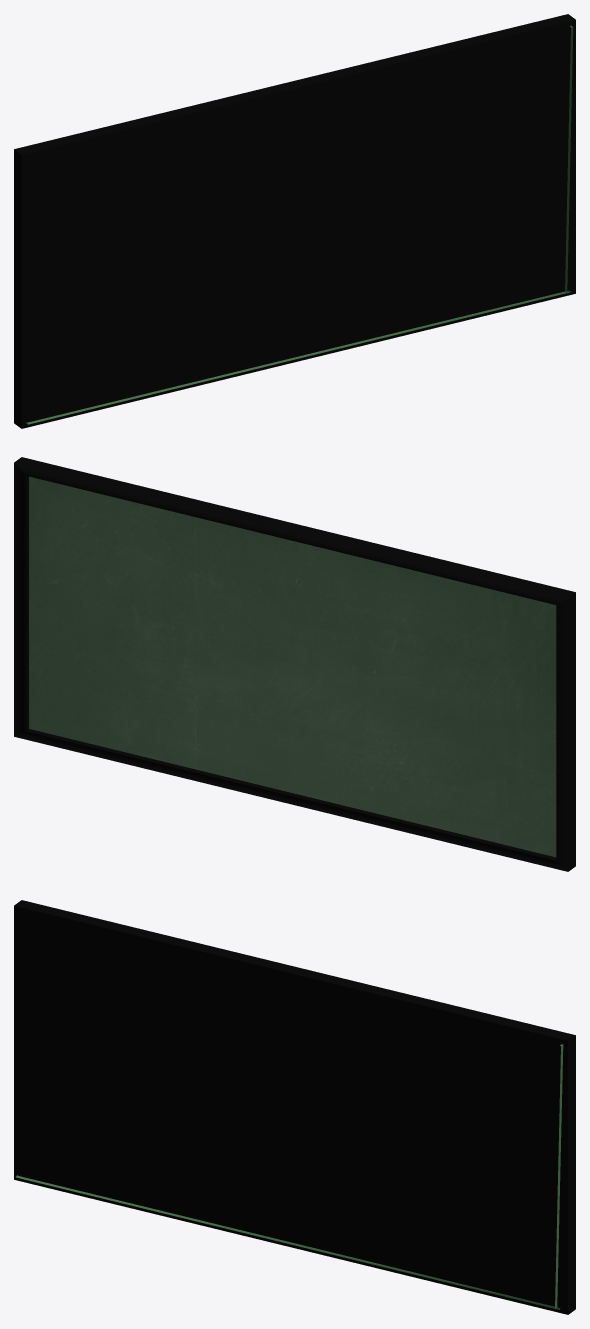
Rendered from SCH0110002.fbx.
The picture shows the model from 3 angles, top to bottom: view 1: azimuth 30°, elevation 25°; view 2: azimuth 150°, elevation 25°; view 3: azimuth 330°, elevation 25°; orthographic projection.
Visible parts, largest first — view 1: smSCH0110002; view 2: smSCH0110002; view 3: smSCH0110002.
Boxes of the visible parts, x1,y1,x2,y2 form: smSCH0110002: (14,14,575,428); smSCH0110002: (14,457,575,871); smSCH0110002: (14,900,575,1314).
Bounding box in the file's own units: 363 × 172 × 12.44.
Materials: 1 (1 with a texture image).
